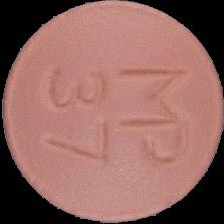53401-300: (0, 0, 224, 224)
